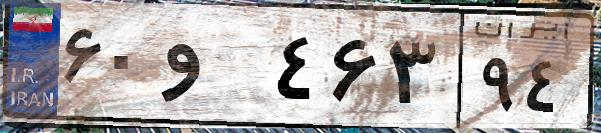0: (110, 28, 158, 98)
3: (385, 28, 445, 110)
4: (270, 28, 330, 110), (525, 38, 570, 115)
6: (330, 28, 385, 110), (57, 26, 110, 100)
9: (475, 38, 525, 113)
و: (158, 20, 270, 120)
